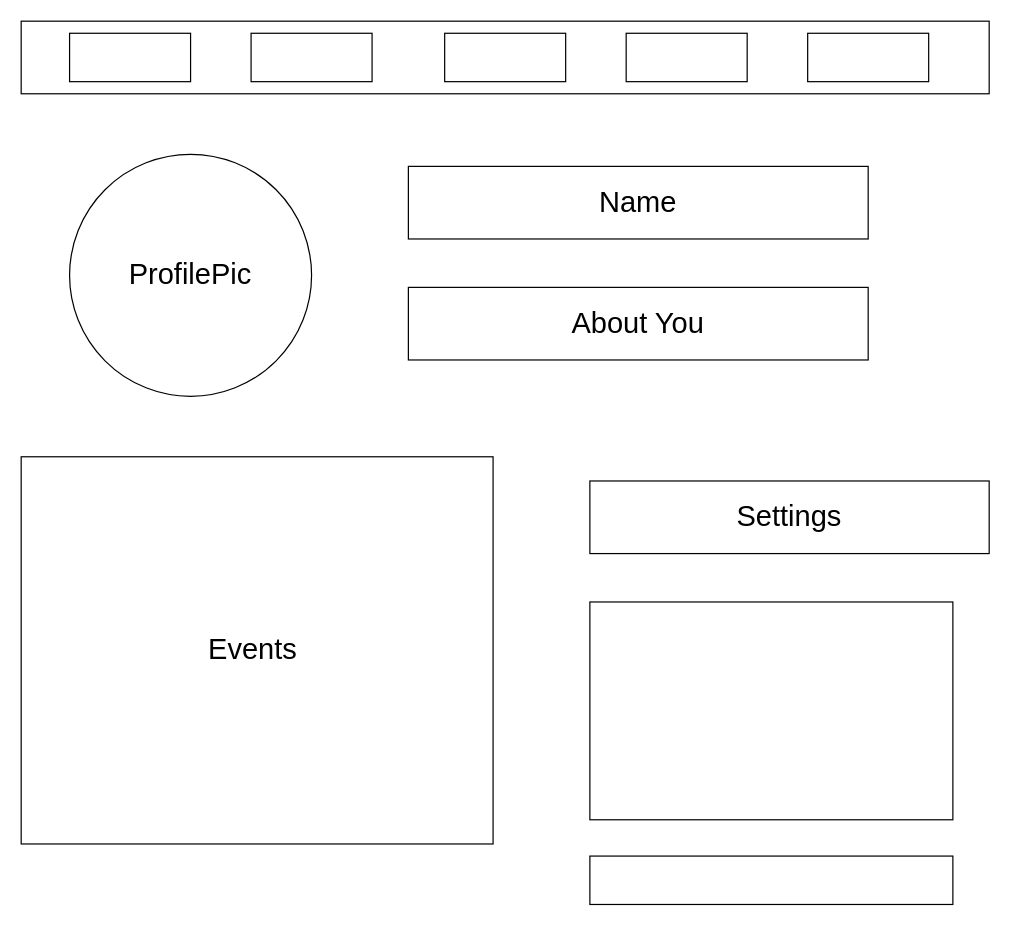
Image size: 1010x926. Some labels were removed from this diagram. The centre of each missing label's shape, as x and y in pixels:
"Add friend by username" goes at (x=771, y=879).
"Friends" goes at (x=771, y=710).
